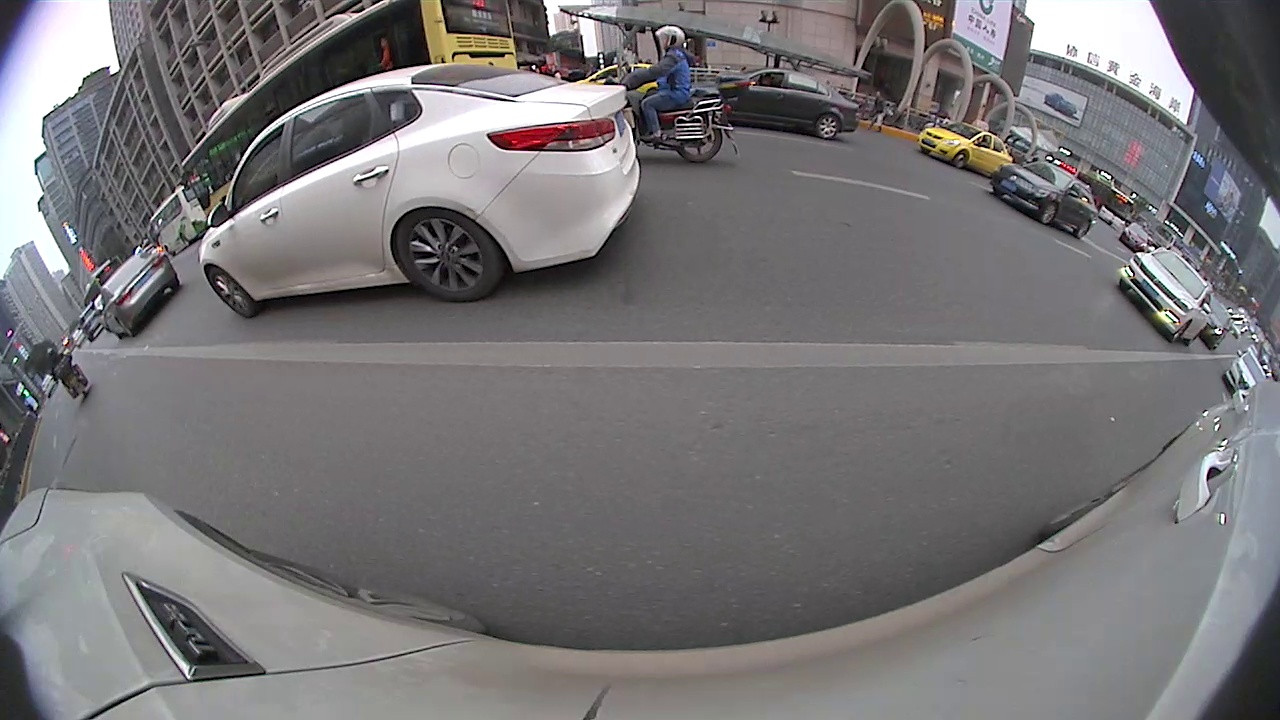bus: (184, 1, 528, 234)
car: (194, 62, 638, 321), (1110, 241, 1217, 346), (707, 69, 860, 138), (988, 160, 1099, 241), (96, 249, 186, 338), (913, 118, 1016, 178), (1221, 347, 1274, 401)
front: (203, 265, 258, 320), (1039, 201, 1057, 226), (951, 151, 968, 169)
rear: (394, 209, 506, 302), (672, 128, 725, 164), (814, 113, 840, 143), (1072, 217, 1091, 241)
rider: (599, 23, 728, 161), (40, 339, 94, 404)
